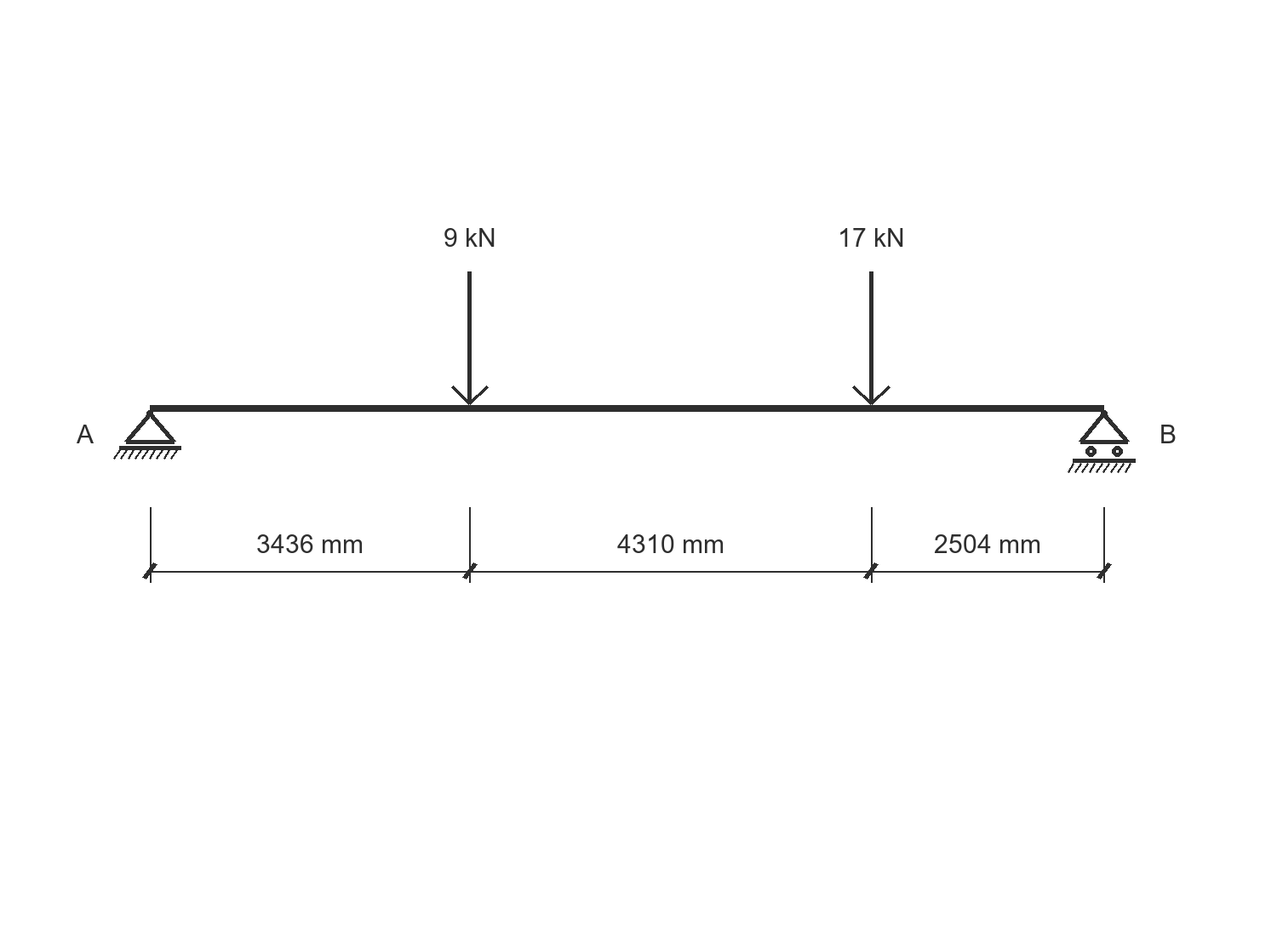pin_support: (113, 410, 181, 459)
point_load: (451, 271, 489, 405), (852, 271, 890, 405)
roller_support: (1068, 410, 1136, 473)
